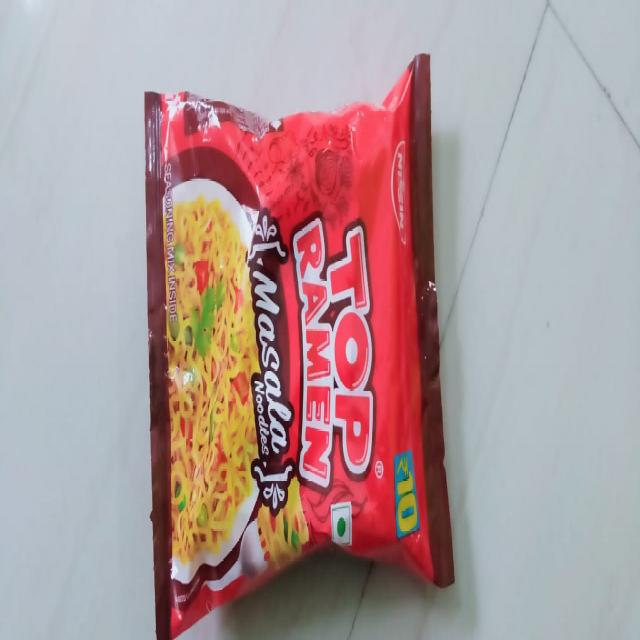maggi: (143, 55, 463, 640)
